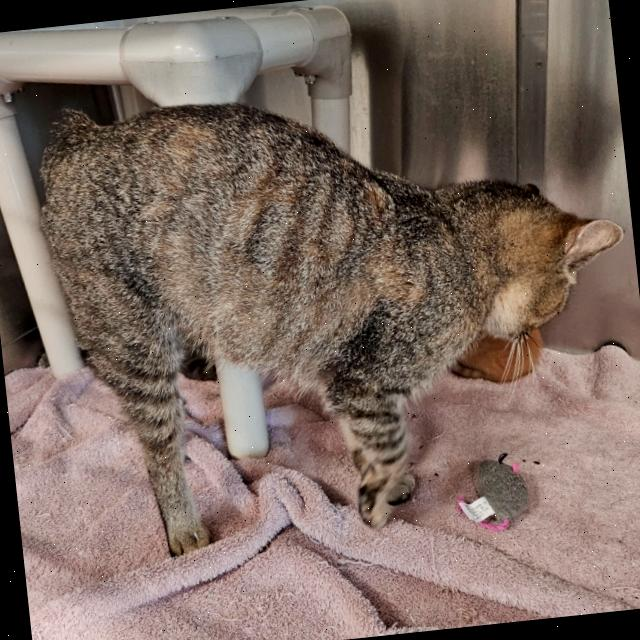manx_cat: (444, 146, 636, 362)
